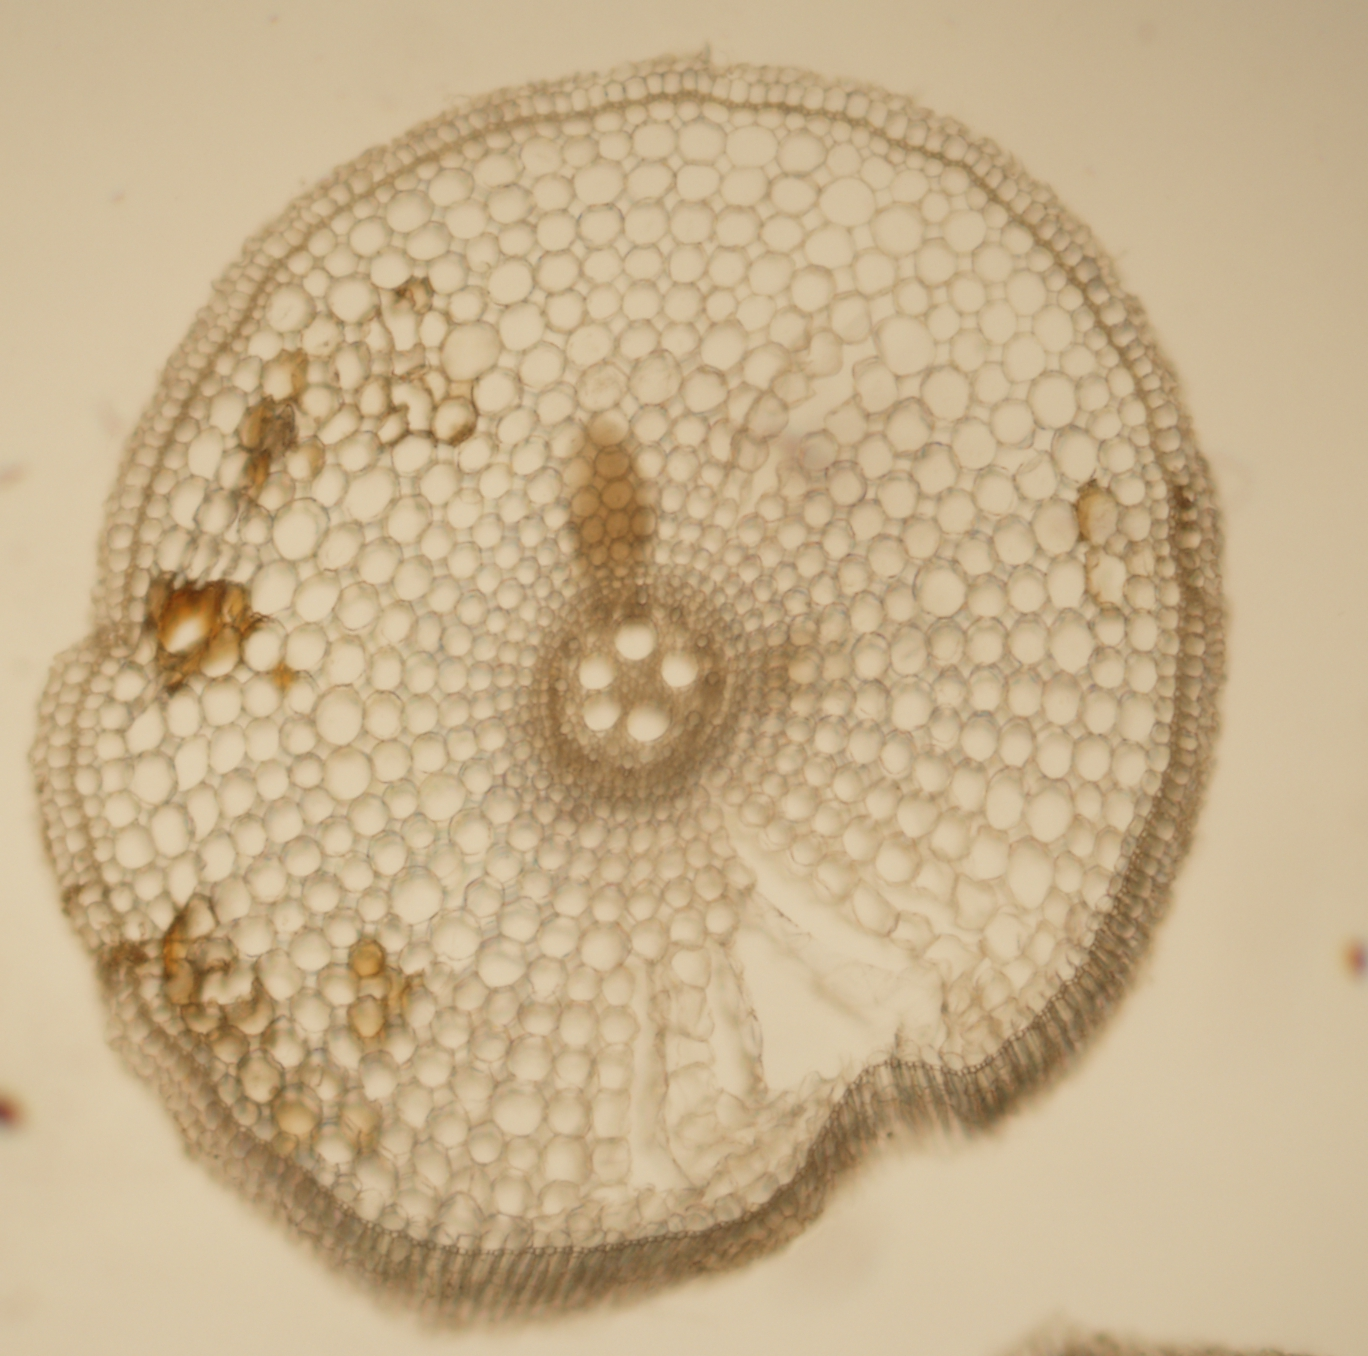lm: (626, 702, 672, 743), (614, 616, 655, 661), (577, 652, 617, 690), (660, 649, 699, 689), (582, 693, 622, 731)
